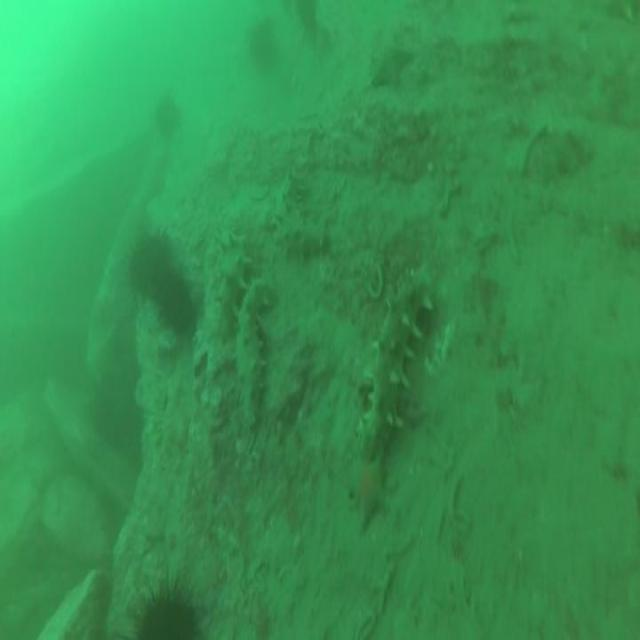echinus: (136, 589, 196, 640), (130, 234, 169, 295), (164, 272, 196, 330), (249, 22, 274, 66), (155, 93, 177, 133)
holothurian: (356, 261, 438, 449), (238, 275, 276, 422), (214, 223, 250, 303), (280, 207, 328, 262)
starfish: (346, 456, 386, 524)
